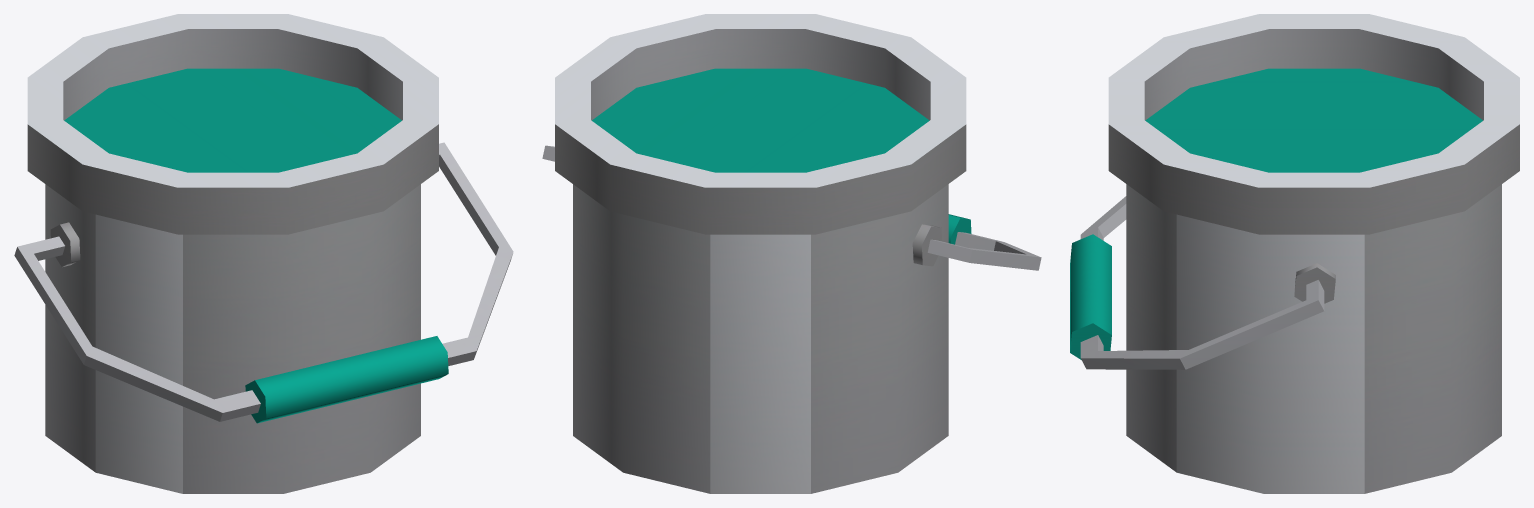
File: SM_Bucket02.fbx
3 views of the same model, side by side, from view 1: azimuth 30°, elevation 25°; view 2: azimuth 150°, elevation 25°; view 3: azimuth 270°, elevation 25° (orthographic).
Parts seen in each view (by area): view 1: SM_Bucket02; view 2: SM_Bucket02; view 3: SM_Bucket02.
Boxes of the visible parts, <box> form: SM_Bucket02: <box>14,14,513,493</box>; SM_Bucket02: <box>542,14,1041,493</box>; SM_Bucket02: <box>1070,14,1519,493</box>.
Bounding box in the file's own units: 27.69 × 19.43 × 25.26.
